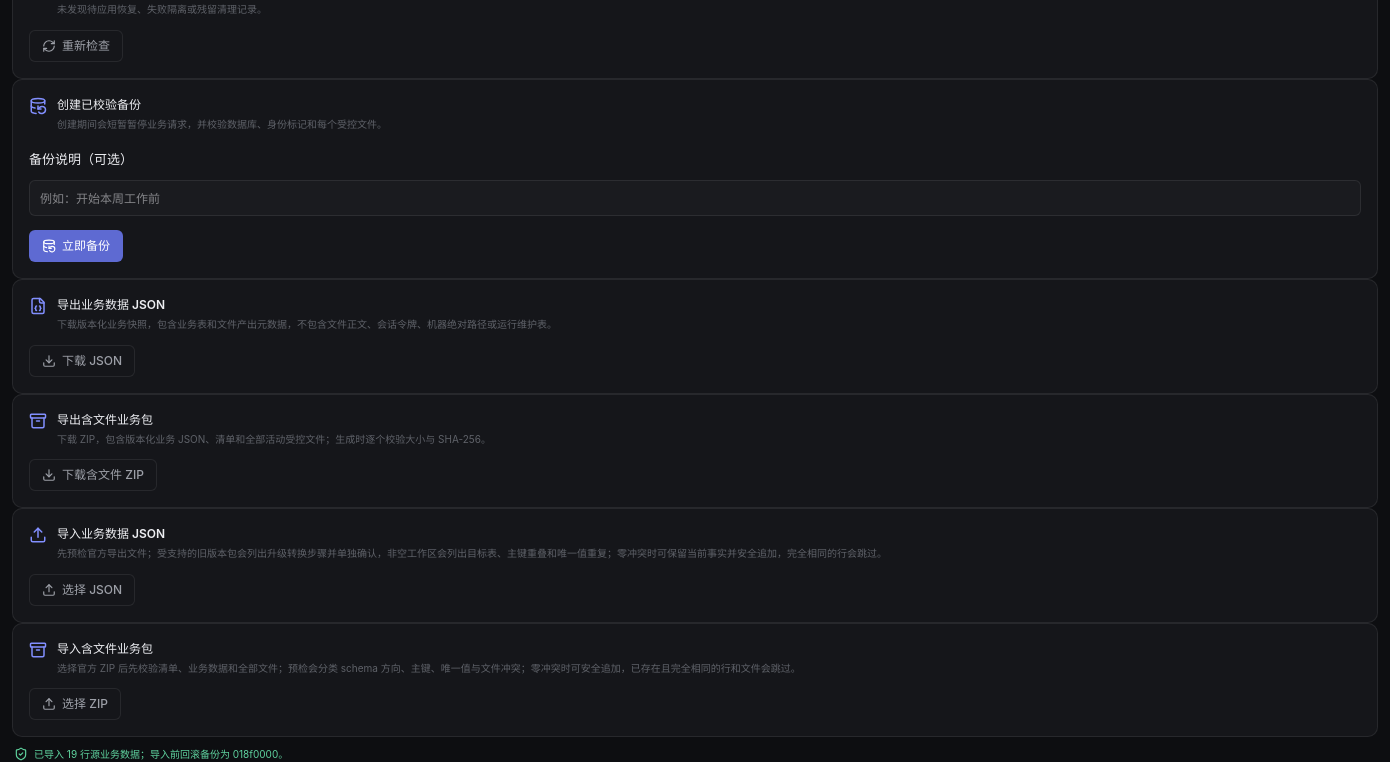
Test: BackupSettings › keeps the import outcome and the data section across the remount an import causes
(page scrolled)
Expected: the text "已导入 19 行源业务数据；导入前回滚备份为 018f0000。" is shown, [14,747,288,761]
The next action replaces what the import reported.
Click the button "下载 JSON" at coordinates (82, 361), box [29,345,135,377]
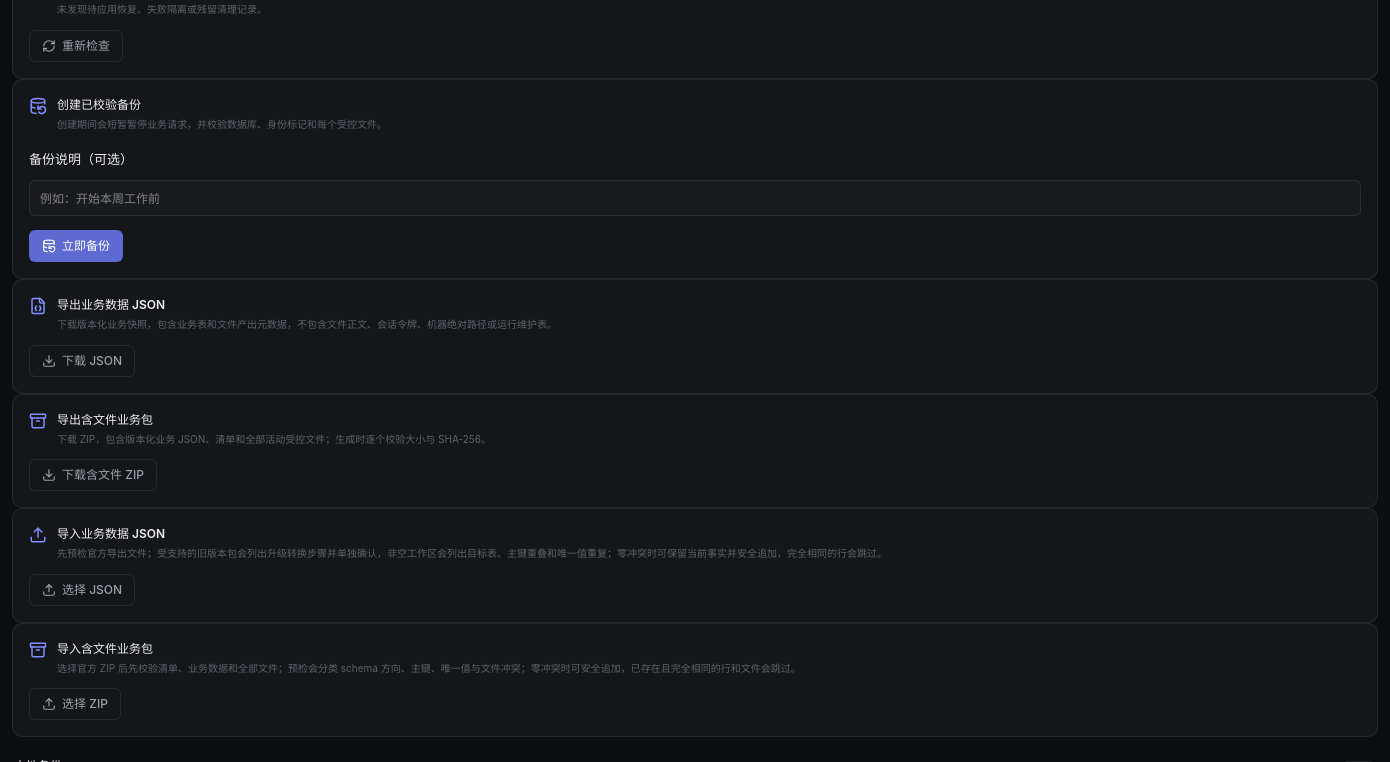
Expected: the text "已导入 19 行" is gone
